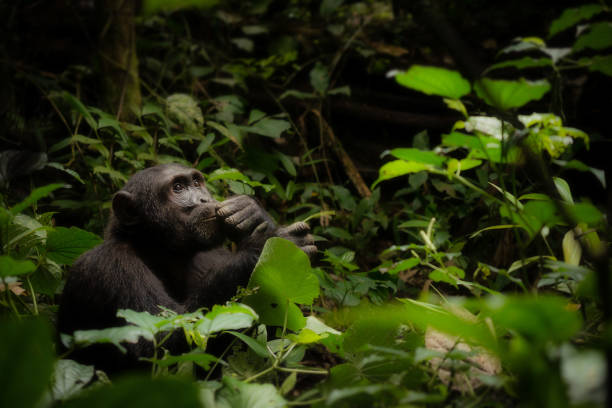chimpanzee: (110, 154, 229, 272)
